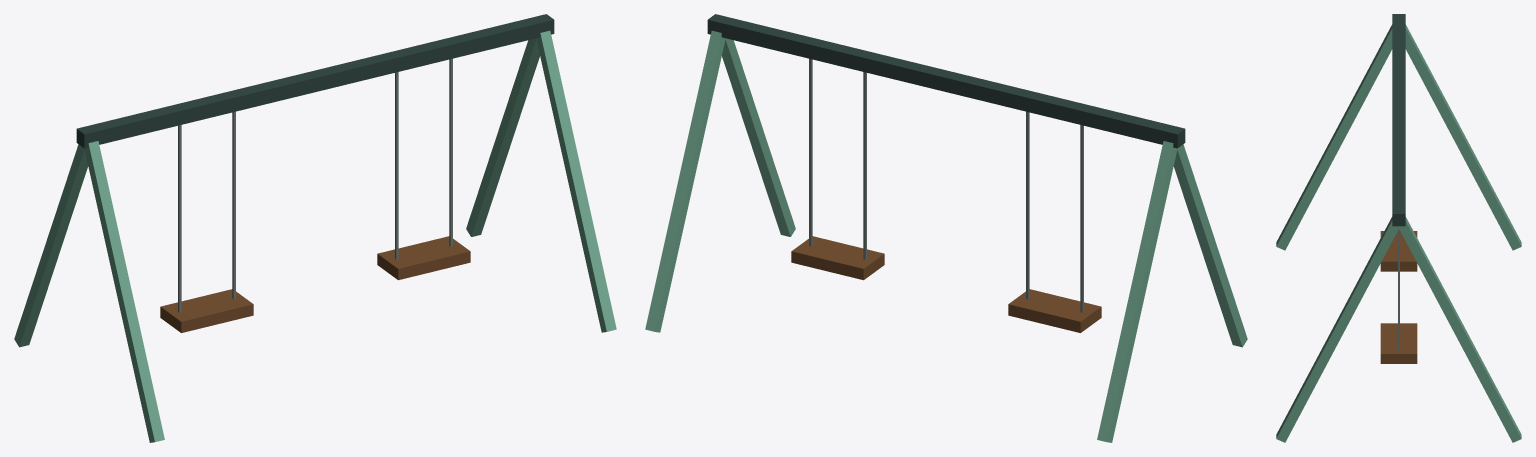
File: SwingSet.obj
The picture shows the model from 3 angles, left to right: view 1: azimuth 30°, elevation 25°; view 2: azimuth 150°, elevation 25°; view 3: azimuth 270°, elevation 25°; orthographic projection. The views are drawn at different scales.
Parts seen in each view (by area): view 1: SwingSet; view 2: SwingSet; view 3: SwingSet.
Part boxes in pixels (x1,y1,x2,y2): SwingSet: (14,14,616,442); SwingSet: (645,14,1247,442); SwingSet: (1276,14,1521,442).
Size of the model in its own units: 5.2 by 2.8 by 2.7.
Materials: 1 (1 with a texture image).
